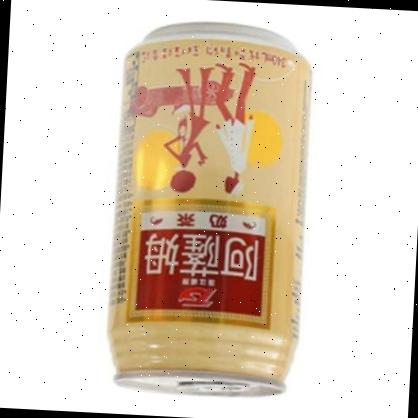can: (102, 14, 318, 403)
